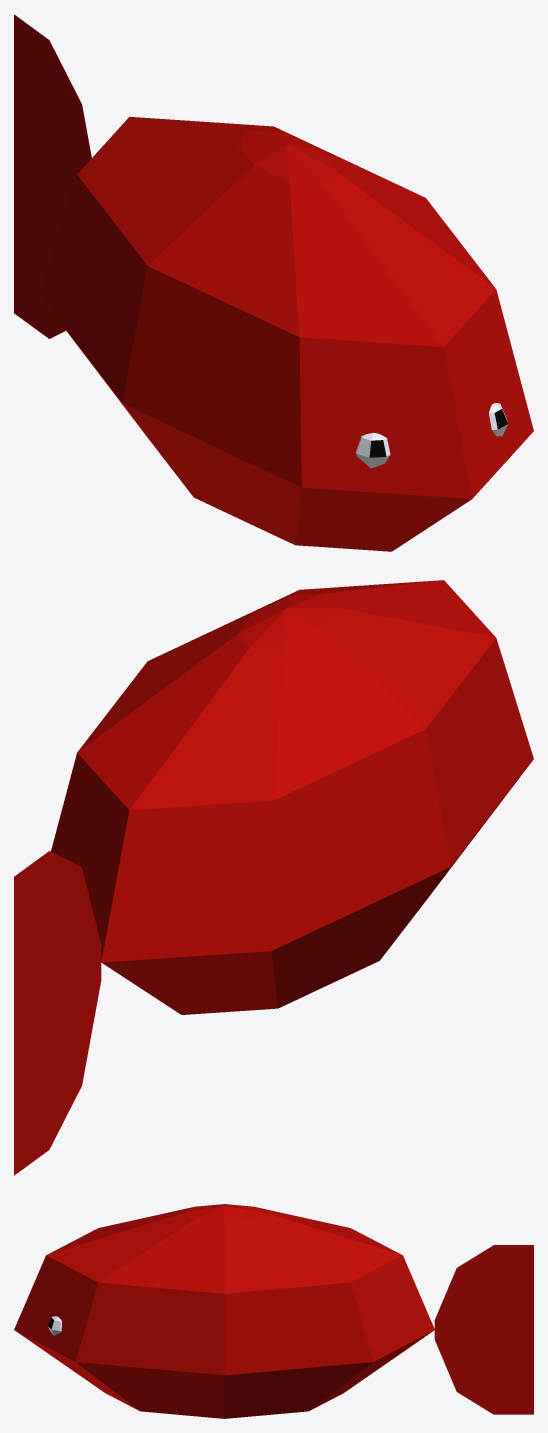
The model's file is RedFishEyes.fbx.
3 renders of one model, top to bottom at view 1: azimuth 30°, elevation 25°; view 2: azimuth 150°, elevation 25°; view 3: azimuth 270°, elevation 25°, orthographic. The views are drawn at different scales.
Parts seen in each view (by area): view 1: Sphere, Eyes.001; view 2: Sphere; view 3: Sphere.
Boxes of the visible parts, x1=… form: Sphere: x1=14, y1=14, x2=533, y2=551; Eyes.001: x1=355, y1=432, x2=390, y2=468; Sphere: x1=14, y1=580, x2=533, y2=1175; Sphere: x1=14, y1=1204, x2=533, y2=1418.
Bounding box in the file's own units: 196 × 210 × 474.
